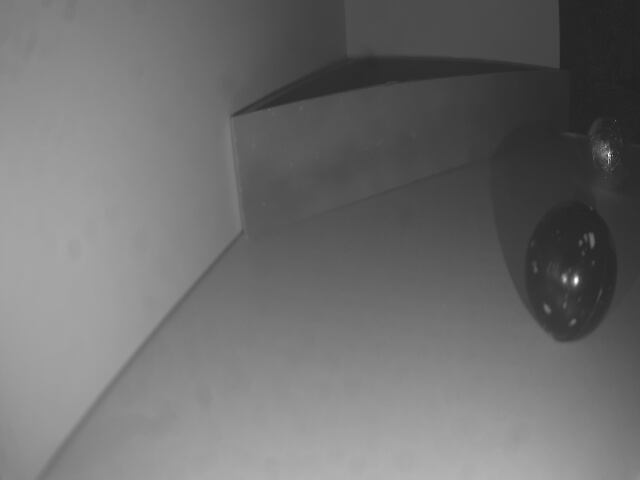Dead: (526, 204, 618, 342)
Green: (231, 71, 571, 240)
Live: (585, 113, 634, 190)
